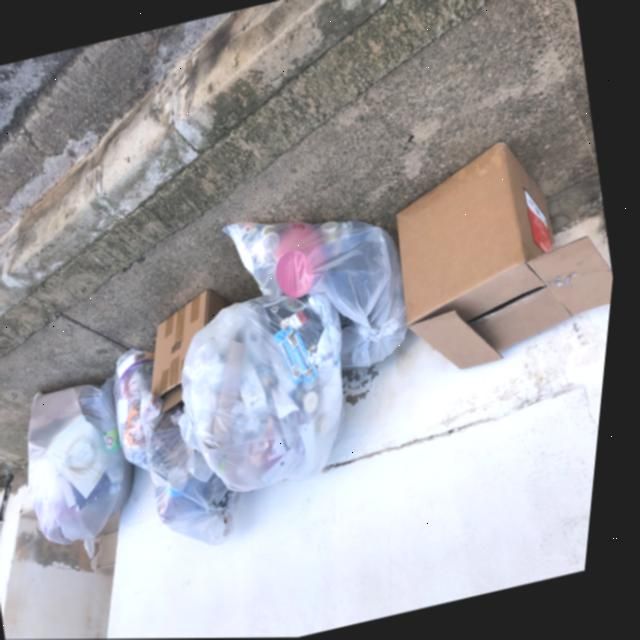Organic Waste -White Bag-: (219, 183, 433, 408), (165, 285, 382, 503), (97, 332, 264, 570), (10, 369, 155, 559)
Other: (373, 134, 605, 385), (142, 301, 220, 407)
